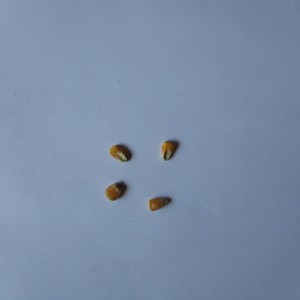maiz: (102, 179, 126, 200), (146, 194, 171, 212), (159, 138, 178, 161), (107, 143, 129, 162)
